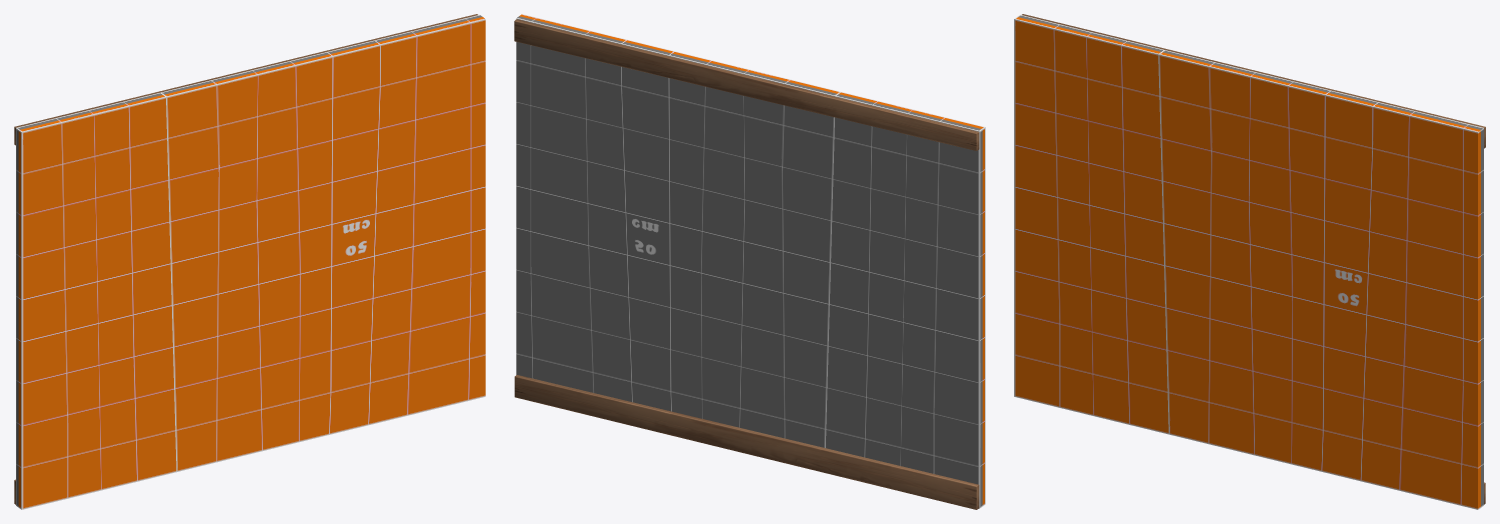
The model's file is Hangar01W_2.FBX.
3 views of the same model, side by side, from view 1: azimuth 30°, elevation 25°; view 2: azimuth 150°, elevation 25°; view 3: azimuth 330°, elevation 25° (orthographic).
Visible parts, largest first — view 1: Hangar01W_2; view 2: Hangar01W_2; view 3: Hangar01W_2.
Part boxes in pixels (x1,y1,x2,y2): Hangar01W_2: (14, 14, 485, 509); Hangar01W_2: (514, 14, 985, 509); Hangar01W_2: (1014, 14, 1485, 509).
Size of what is drawn, in the model's own units: 4.5 by 3.5 by 0.1396.
